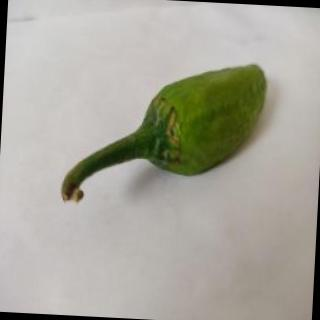Cabai Hijau: (55, 52, 274, 218)
